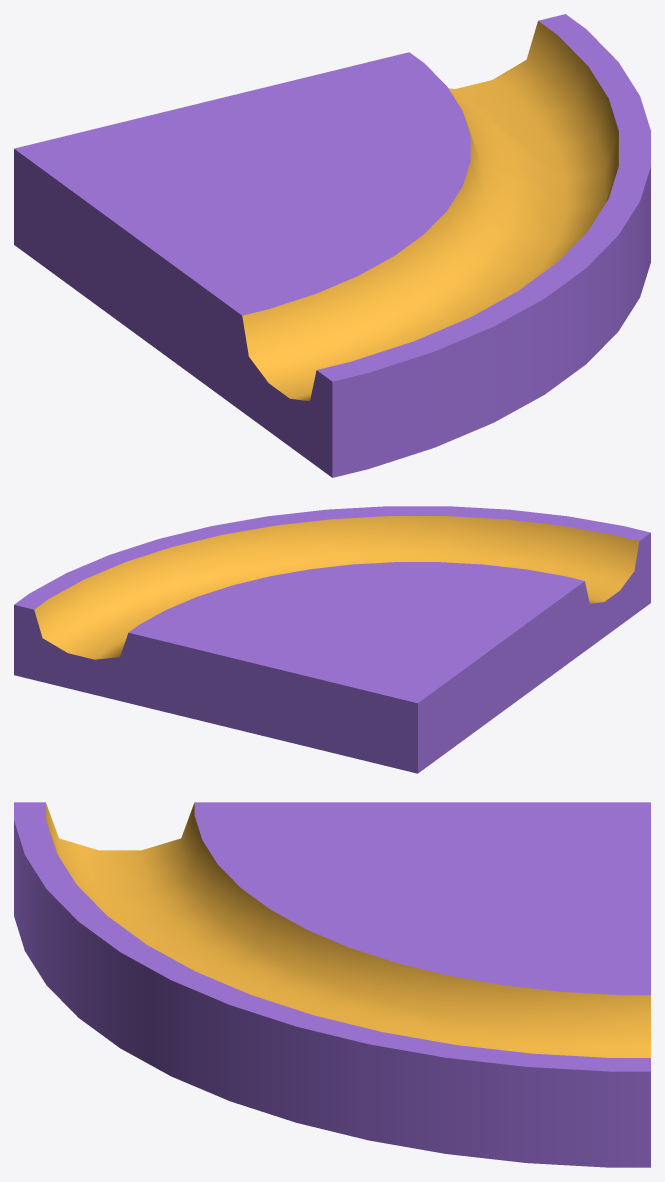
Rendered from kenney-marble-curve-solid-large.glb.
The picture shows the model from 3 angles, top to bottom: view 1: azimuth 30°, elevation 25°; view 2: azimuth 150°, elevation 25°; view 3: azimuth 270°, elevation 25°; orthographic projection. The views are drawn at different scales.
Visible parts, largest first — view 1: curve-solid-large; view 2: curve-solid-large; view 3: curve-solid-large.
Boxes of the visible parts, x1,y1,x2,y2 form: curve-solid-large: [14, 14, 650, 477]; curve-solid-large: [14, 506, 650, 773]; curve-solid-large: [14, 802, 650, 1167].
Bounding box in the file's own units: 3 × 0.4999 × 3.
Materials: 1 (1 with a texture image).
